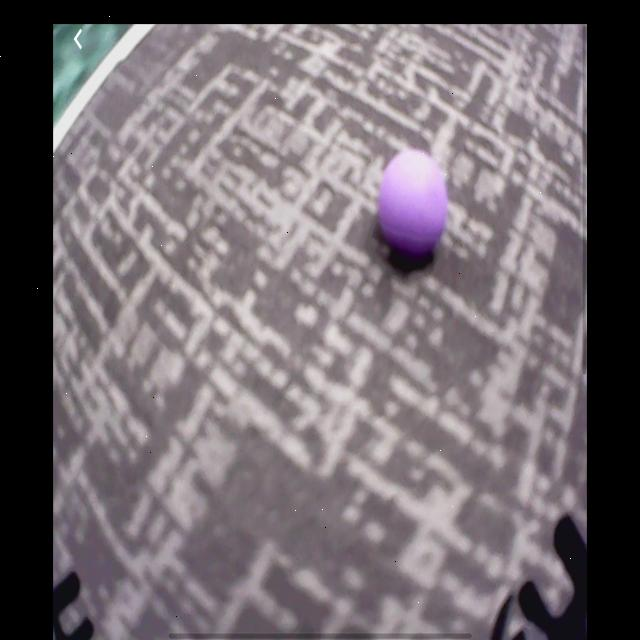ball: (378, 150, 448, 259)
